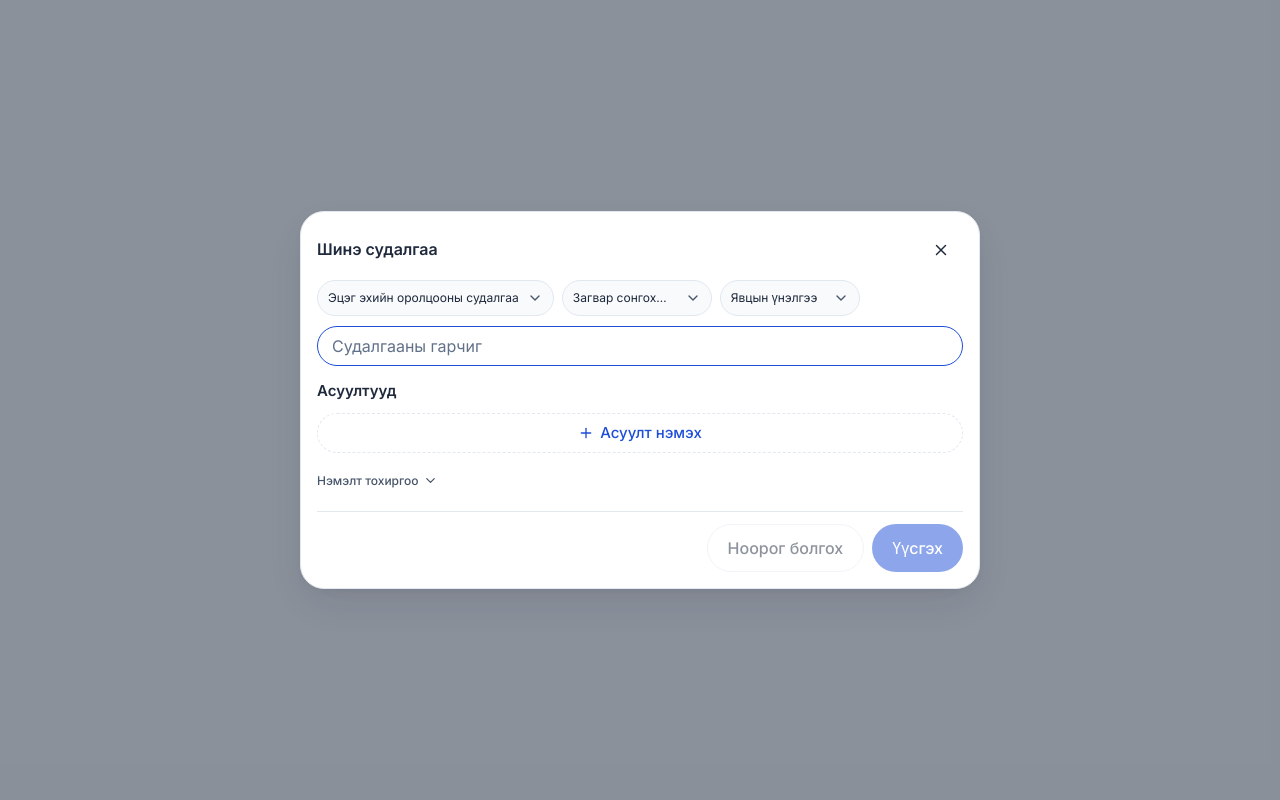
it: single-page survey creation › starts from a ready template and previews the parent's phone form
The width and height of the screenshot is (1280, 800).
Click the dropdown named "Бэлэн загвараас эхлэх" at {"x": 637, "y": 298}, box [562,280,712,316]
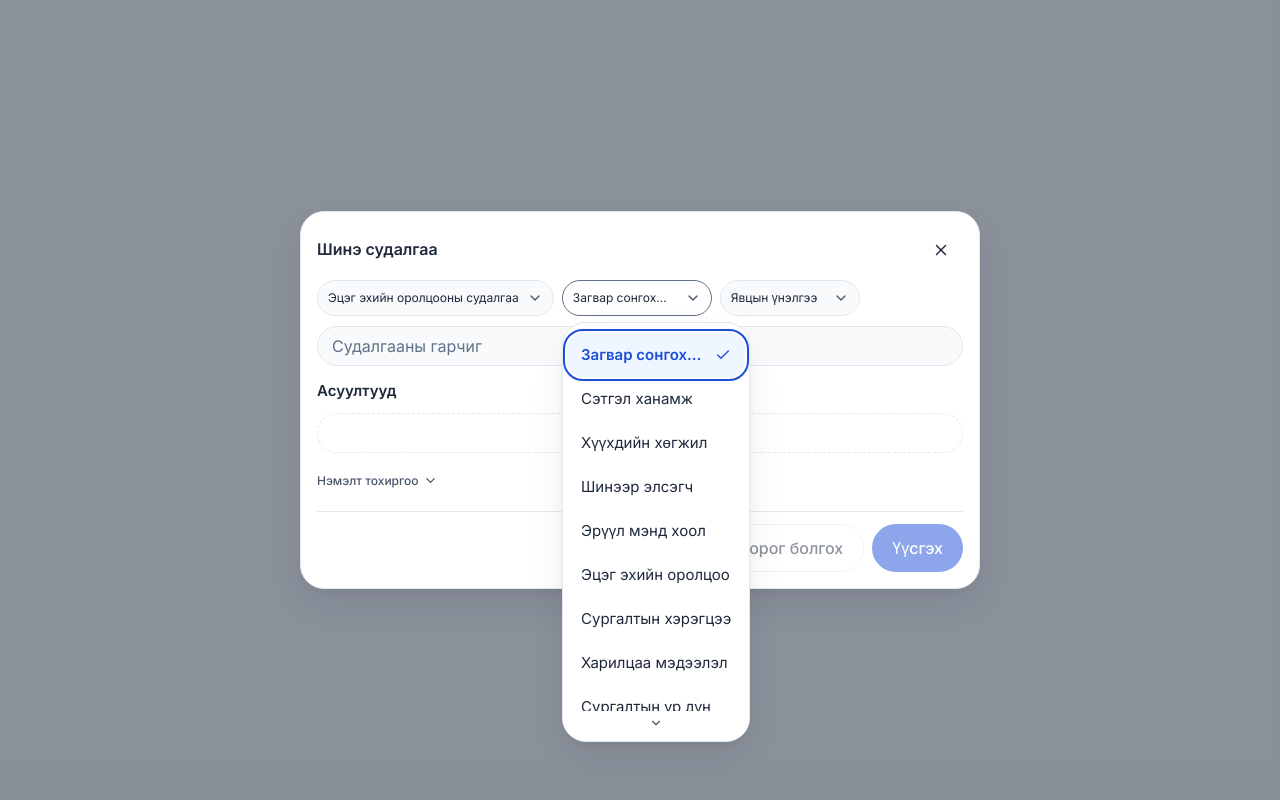
Click the option "Эцэг эхийн оролцоо" at {"x": 655, "y": 574}, box [581,565,730,584]
(page scrolled)
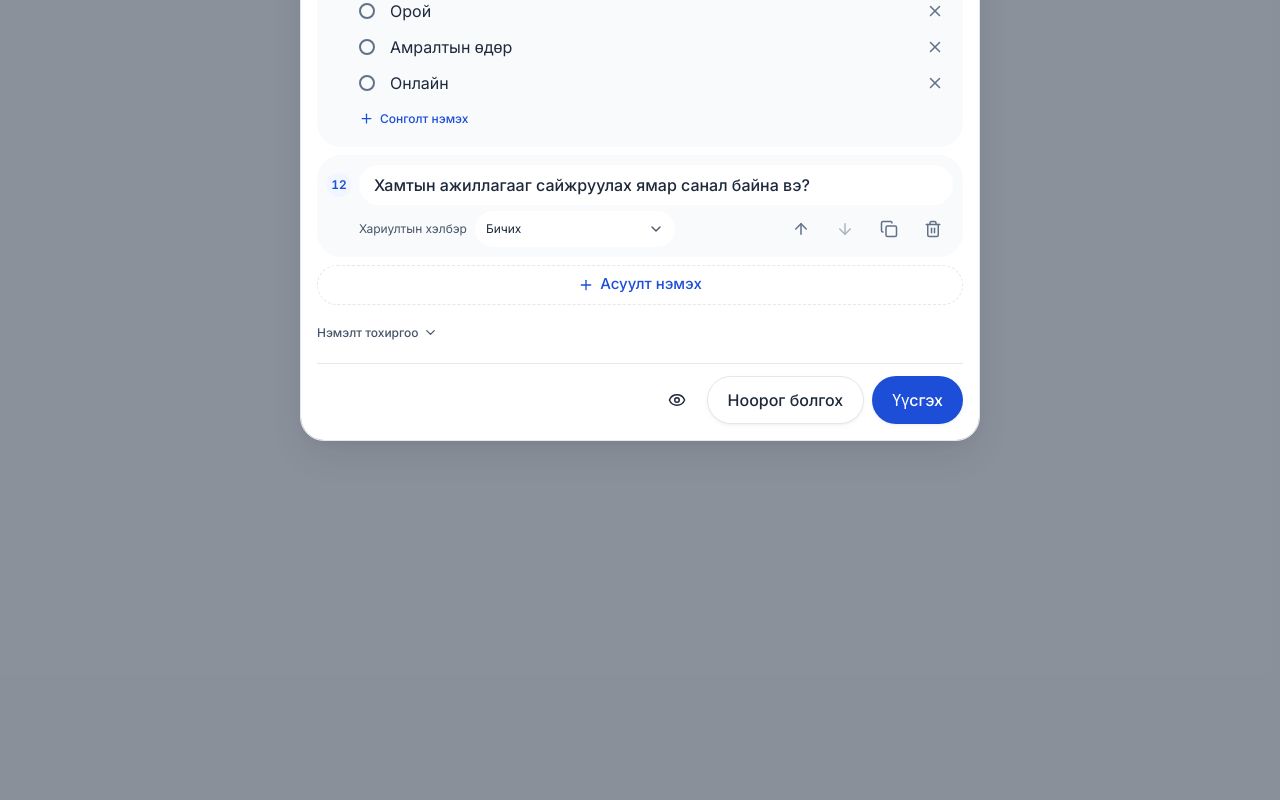
Click the button named "Урьдчилан харах" at {"x": 677, "y": 400}, box [655,378,699,422]
(page scrolled)
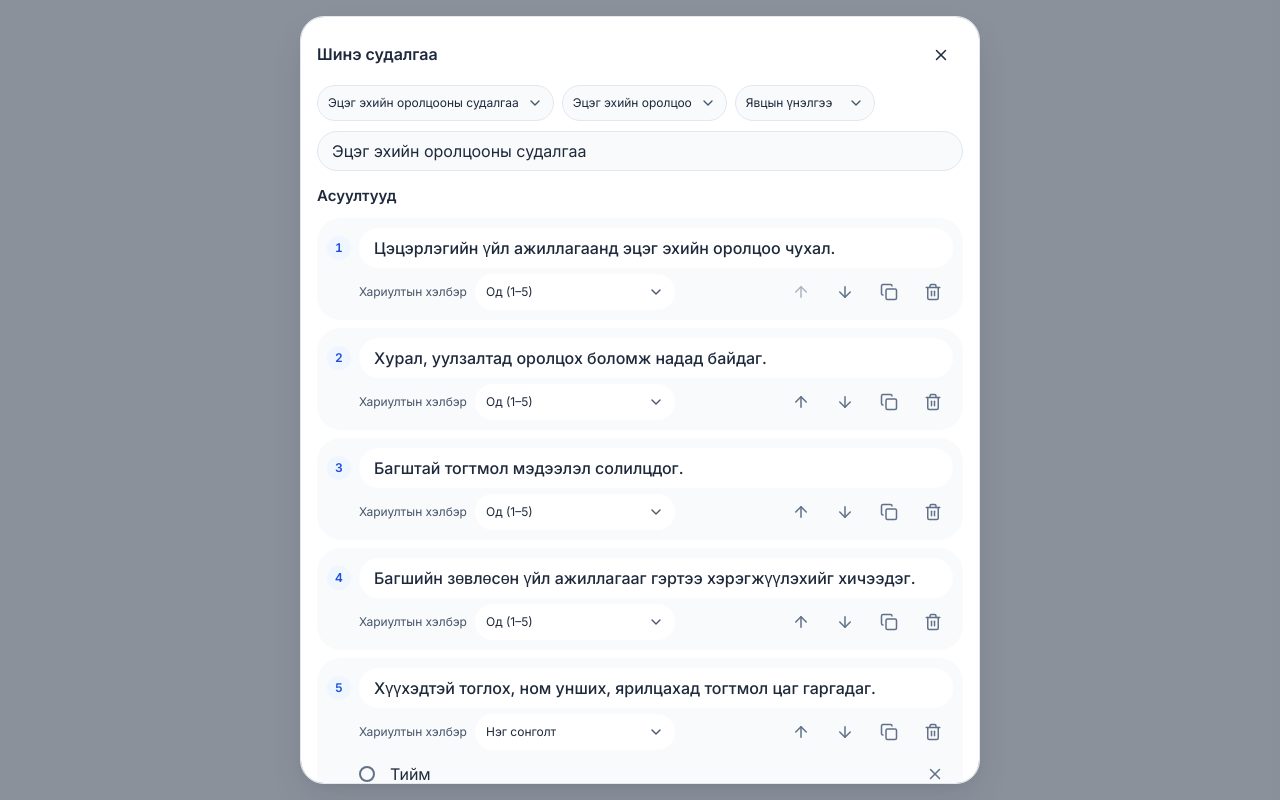
Expected: the text "1" is shown, [327,236,351,260]
